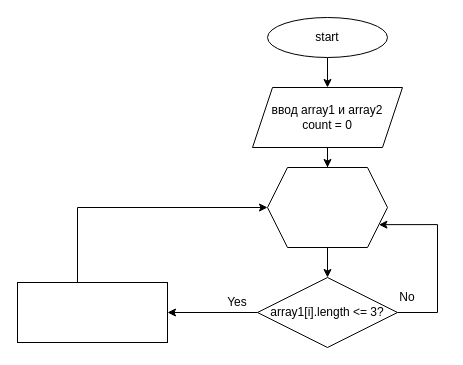
Some shapes in this 463 by 365 pixel diagram are drawn without their labels. Here are the shapes that lost their labels. From the top down, the centre of each, then its label:
At (x=327, y=207): "for (int i = 0; i < array1.lenght; i++)".
At (x=92, y=312): "array2[count] = array1[i] count++;".
